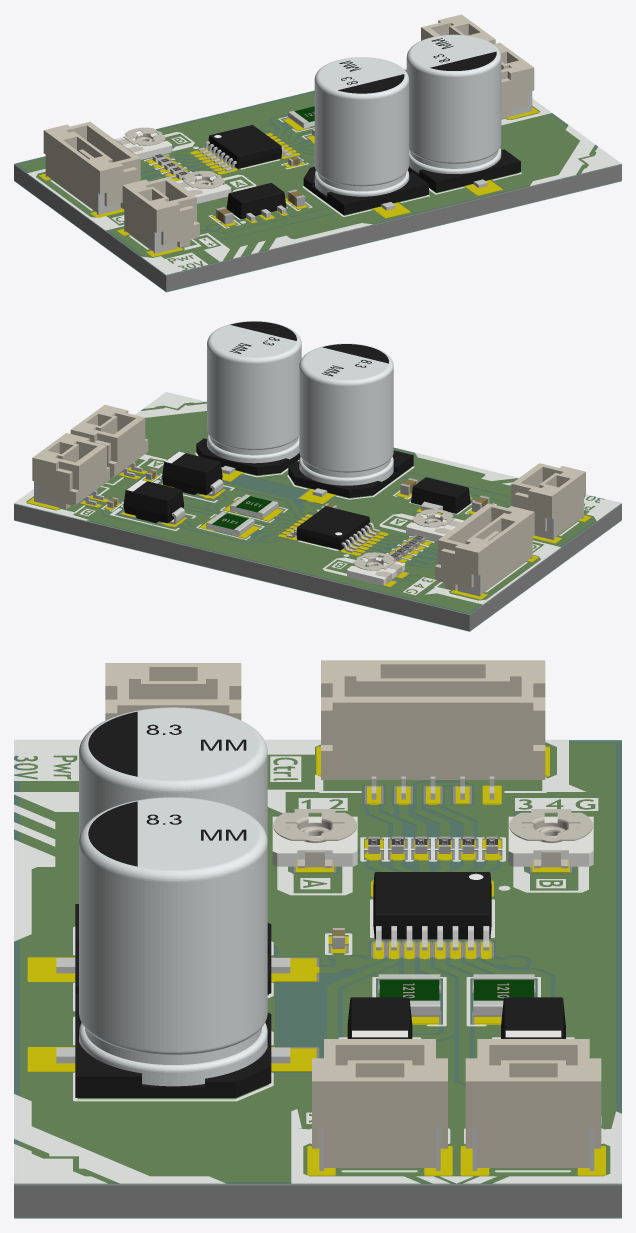
The model's file is Hbridge.step.obj.
3 renders of one model, top to bottom at view 1: azimuth 30°, elevation 25°; view 2: azimuth 150°, elevation 25°; view 3: azimuth 270°, elevation 25°, orthographic. The views are drawn at different scales.
Visible parts, largest first — view 1: obj5, obj16, obj1, obj2, obj20, obj19, obj15, obj14, obj6, obj4, obj3, obj13; view 2: obj16, obj5, obj2, obj1, obj20, obj19, obj15, obj14, obj6, obj4, obj3, obj17 (+2 smaller); view 3: obj16, obj1, obj2, obj5, obj20, obj15, obj19, obj6, obj14, obj4, obj3, obj17 (+2 smaller).
Boxes of the visible parts, x1,y1,x2,y2 form: obj5: (314,34,501,196); obj16: (14,70,621,292); obj1: (19,93,596,268); obj2: (43,14,534,250); obj20: (14,92,621,291); obj19: (208,38,520,219); obj15: (27,68,621,274); obj14: (45,91,532,253); obj6: (165,115,335,238); obj4: (117,127,224,195); obj3: (114,132,231,203); obj13: (215,156,305,224); obj16: (14,401,621,631); obj5: (207,321,393,485); obj2: (32,405,585,593); obj1: (27,403,599,612); obj20: (14,402,621,631); obj19: (123,321,470,550); obj15: (14,391,621,604); obj14: (34,462,583,596); obj6: (80,467,510,587); obj4: (353,509,461,584); obj3: (347,514,463,585); obj17: (212,496,271,529); obj16: (14,740,621,1218); obj1: (20,743,615,1181); obj2: (105,660,601,1167); obj5: (79,707,267,1086); obj20: (14,742,621,1217); obj15: (14,739,621,1183); obj19: (75,711,565,1097); obj6: (268,852,569,1083); obj14: (56,776,594,1170); obj4: (273,809,592,868); obj3: (272,816,593,866); obj17: (379,979,533,1000).
Size of the model in its own units: 33.28 by 9.1 by 19.26.
